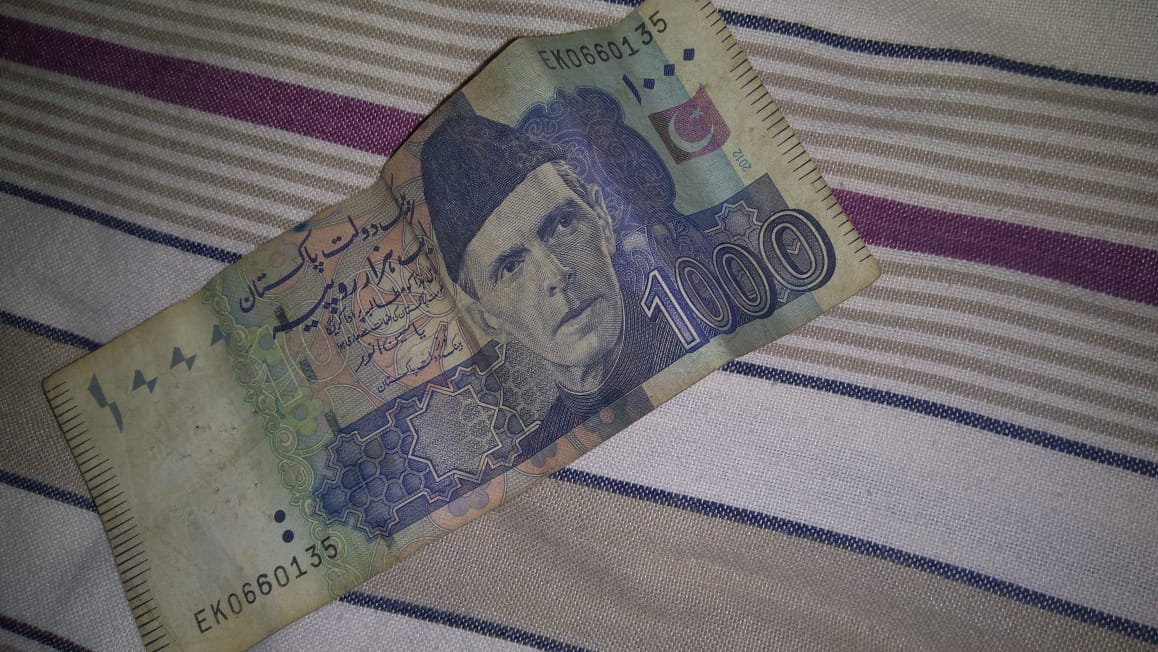1000 rupee: (10, 5, 900, 639)
